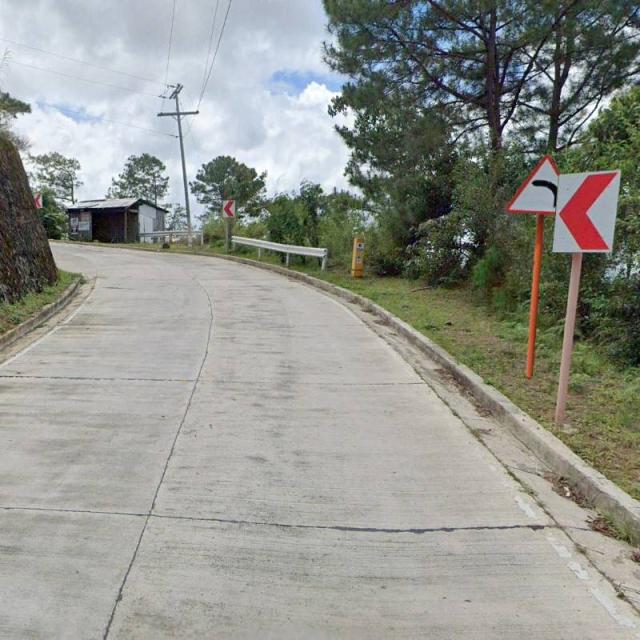warn_left_curve: (506, 155, 585, 215)
